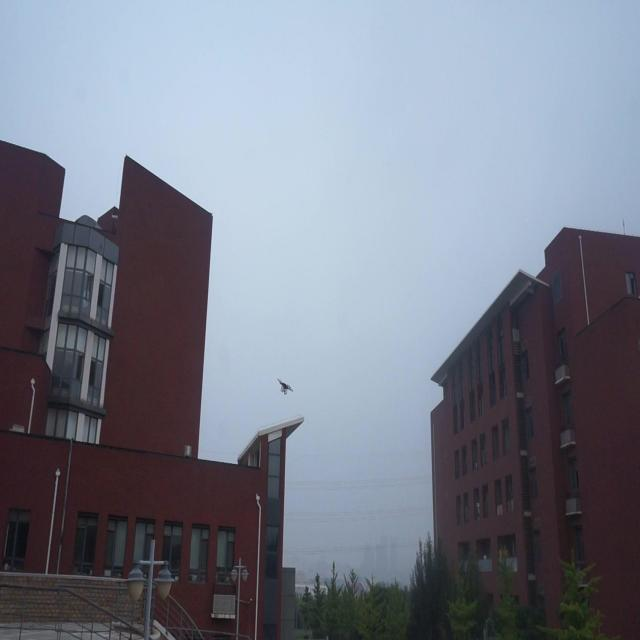UAV: (277, 377, 293, 395)
